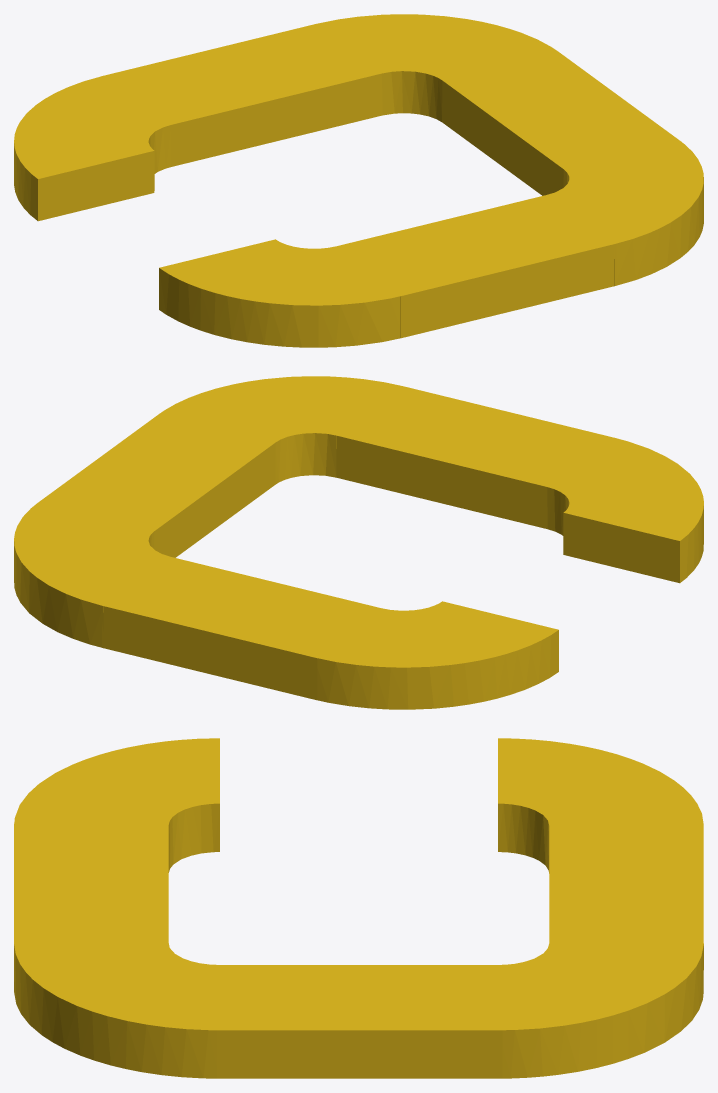
Rendered from Coil yellow.gltf.
The picture shows the model from 3 angles, top to bottom: view 1: azimuth 30°, elevation 25°; view 2: azimuth 150°, elevation 25°; view 3: azimuth 270°, elevation 25°; orthographic projection. The views are drawn at different scales.
Visible parts, largest first — view 1: Cube.002; view 2: Cube.002; view 3: Cube.002.
Boxes of the visible parts, x1,y1,x2,y2 form: Cube.002: (14, 14, 703, 347); Cube.002: (14, 376, 703, 709); Cube.002: (14, 738, 703, 1078).
Bounding box in the file's own units: 1.99 × 0.1535 × 1.98.
